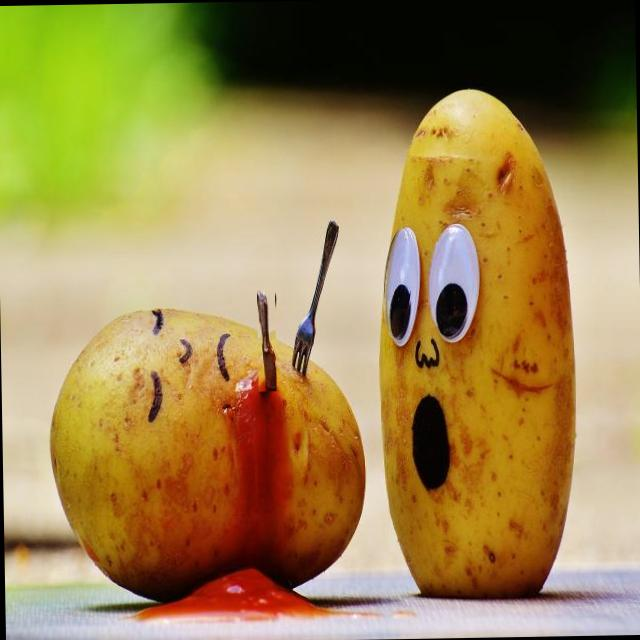Axe: (257, 291, 276, 391)
